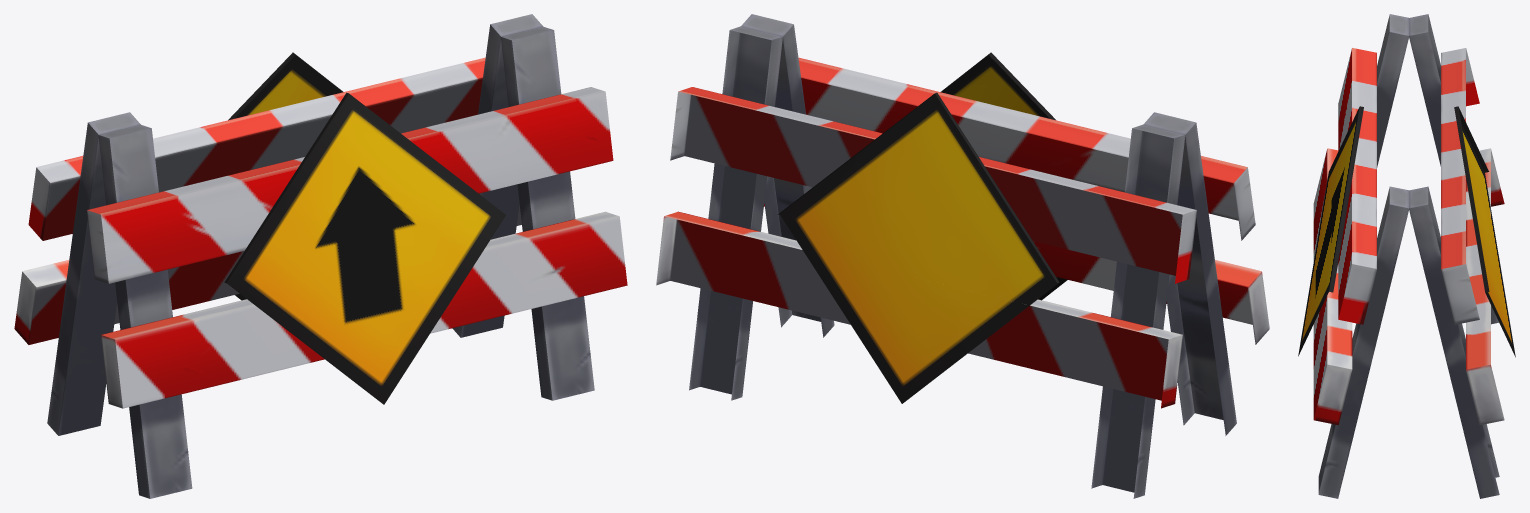
The model's file is Fence_Jump.FBX.
3 views of the same model, side by side, from view 1: azimuth 30°, elevation 25°; view 2: azimuth 150°, elevation 25°; view 3: azimuth 270°, elevation 25° (orthographic). The views are drawn at different scales.
Visible parts, largest first — view 1: Fence Jump; view 2: Fence Jump; view 3: Fence Jump.
Part boxes in pixels (x1,y1,x2,y2): Fence Jump: [14, 14, 627, 498]; Fence Jump: [656, 14, 1269, 498]; Fence Jump: [1298, 14, 1515, 498].
Bounding box in the file's own units: 135 × 57.54 × 86.66.
